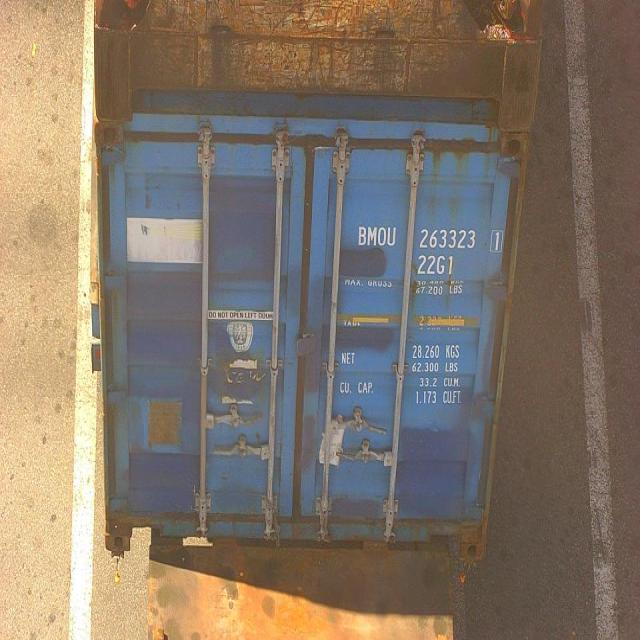ISO: (417, 254, 455, 276)
container_number: (357, 228, 502, 252)
